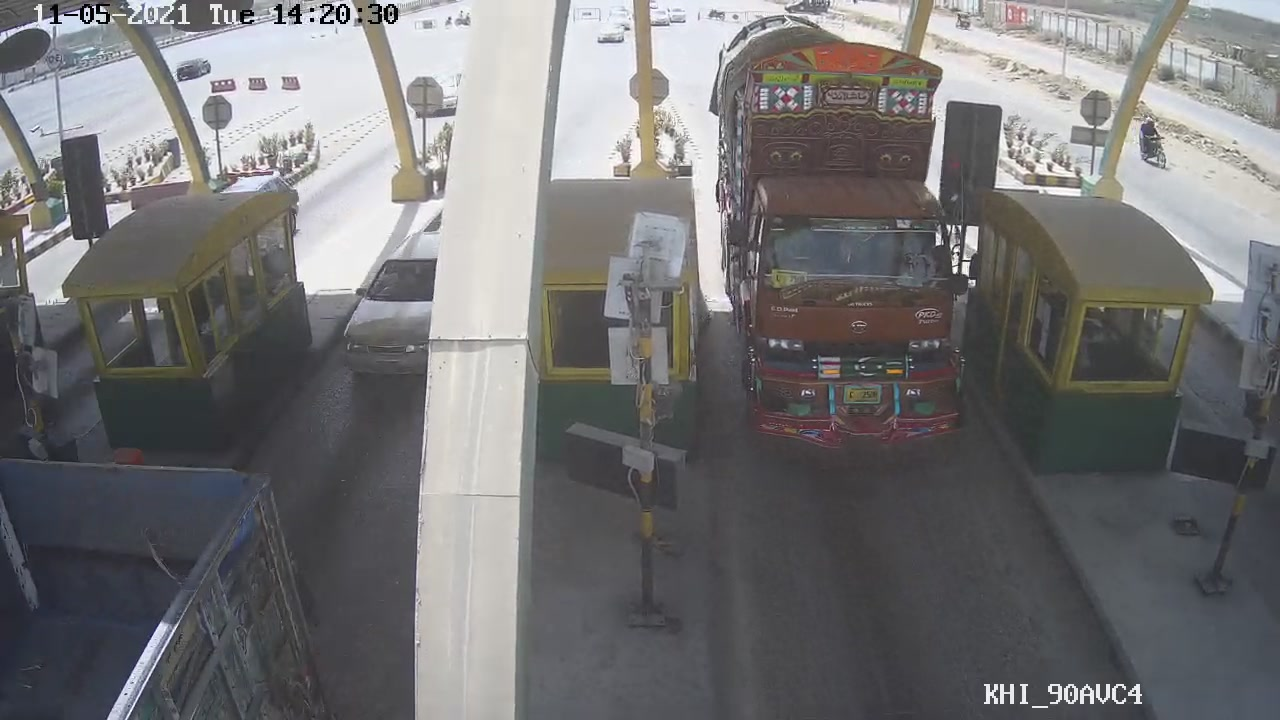F5: (705, 2, 971, 479)
